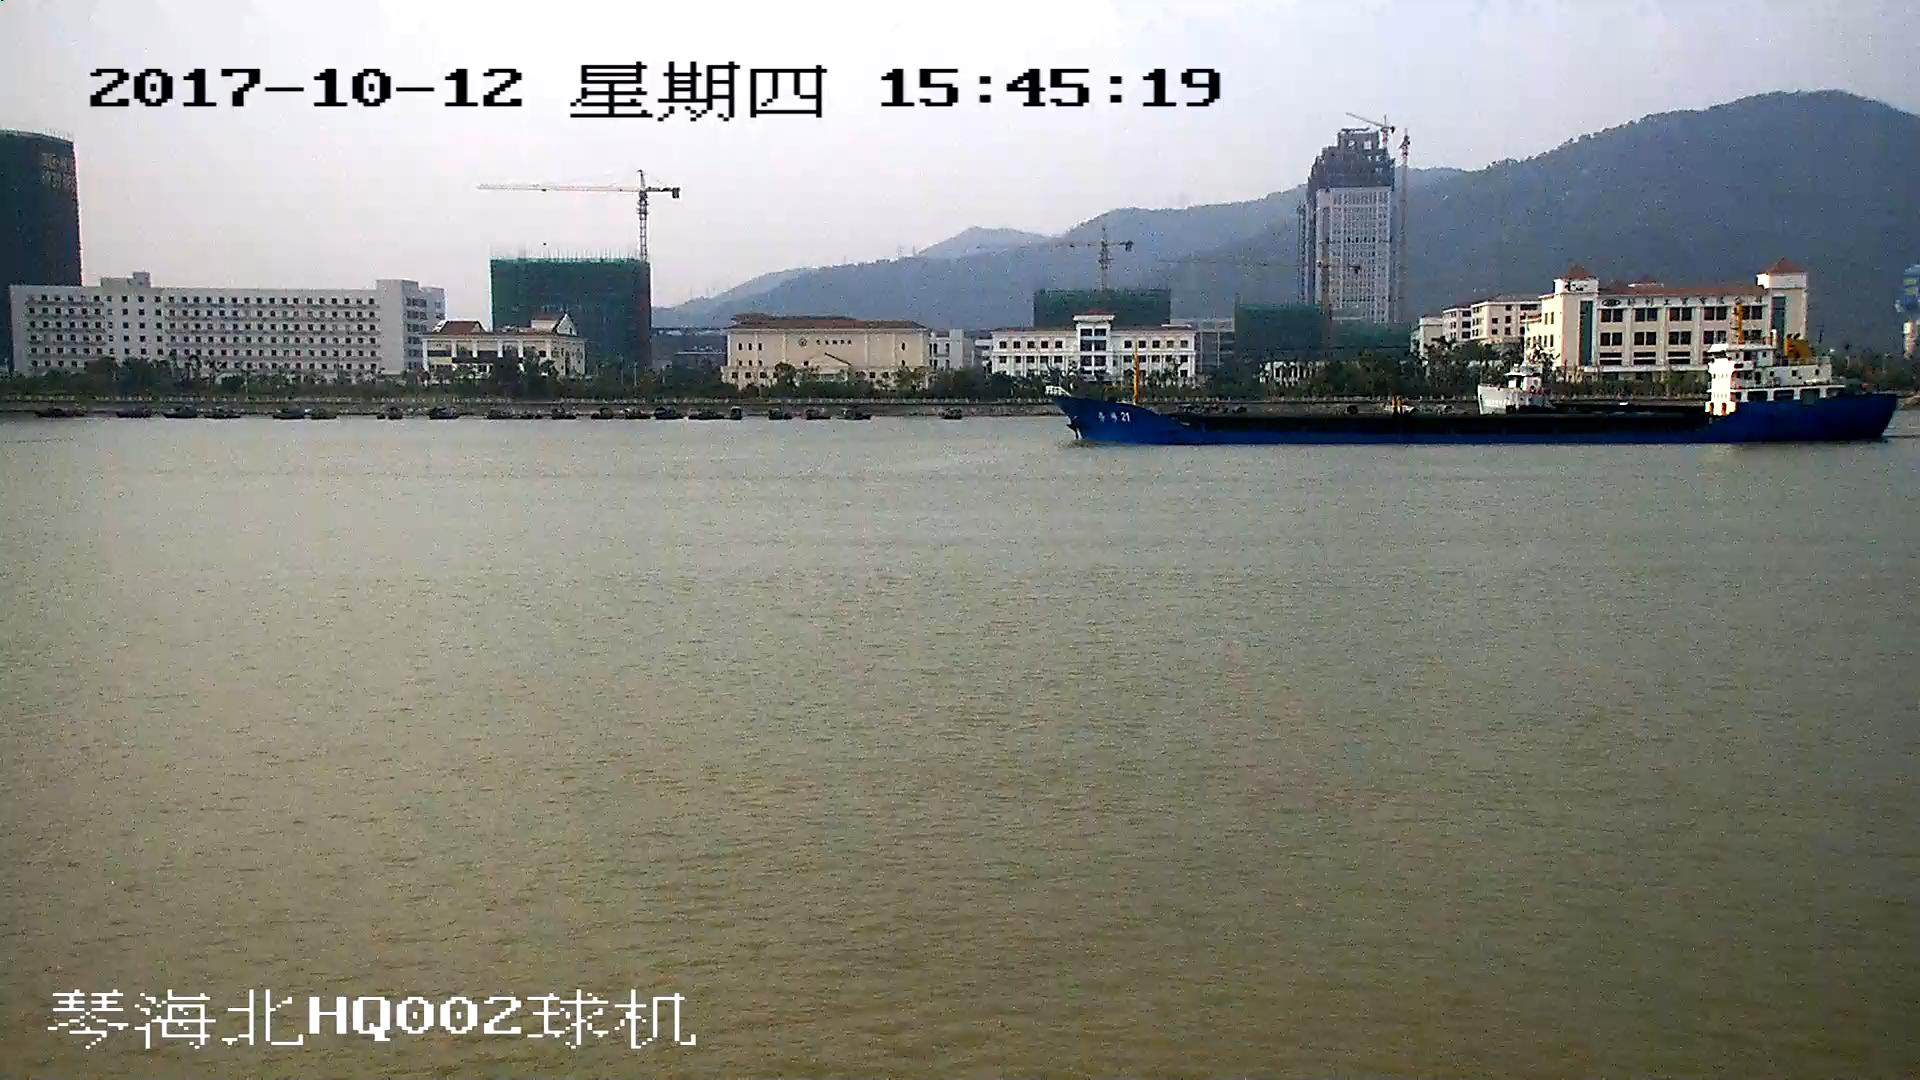general cargo ship: (1049, 314, 1891, 447)
